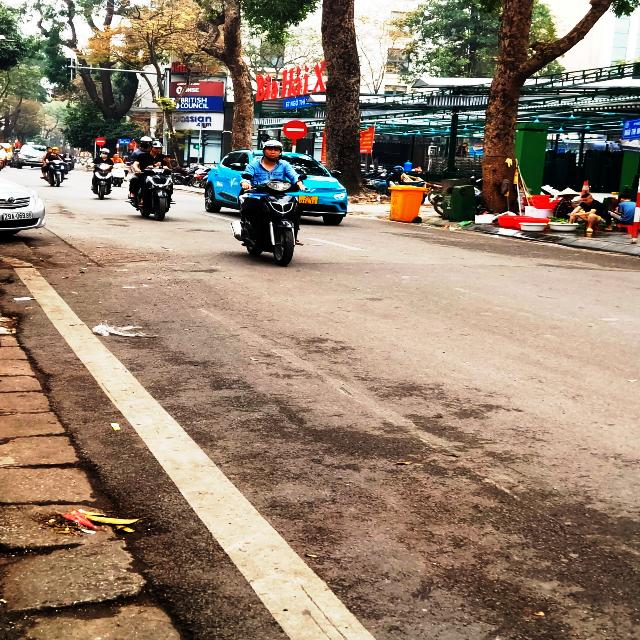license_plate: (300, 196, 319, 205)
